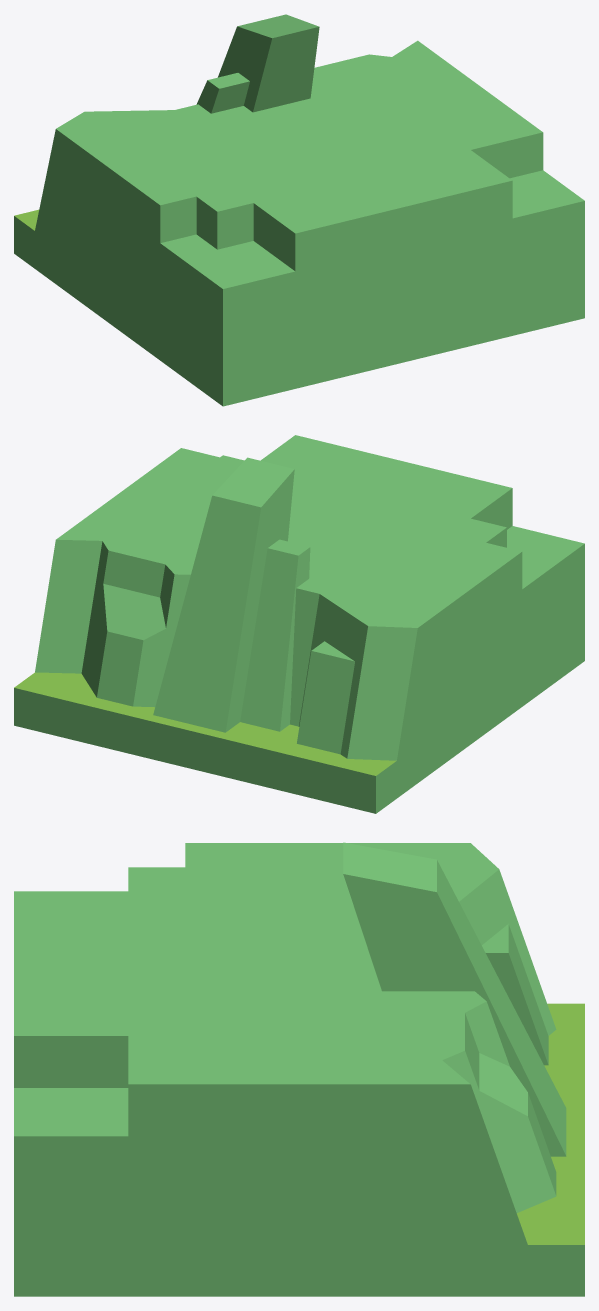
The model's file is x_zem_1_5_1_rmstrd.fbx.
3 renders of one model, top to bottom at view 1: azimuth 30°, elevation 25°; view 2: azimuth 150°, elevation 25°; view 3: azimuth 270°, elevation 25°, orthographic. The views are drawn at different scales.
Visible parts, largest first — view 1: x_zem_1_5_1_rmstrd1; view 2: x_zem_1_5_1_rmstrd1; view 3: x_zem_1_5_1_rmstrd1.
Boxes of the visible parts, box(x1,y1,x2,y2) form: x_zem_1_5_1_rmstrd1: box(14, 14, 584, 406); x_zem_1_5_1_rmstrd1: box(14, 435, 584, 813); x_zem_1_5_1_rmstrd1: box(14, 842, 584, 1296).
Bounding box in the file's own units: 10 × 6.3 × 10.
